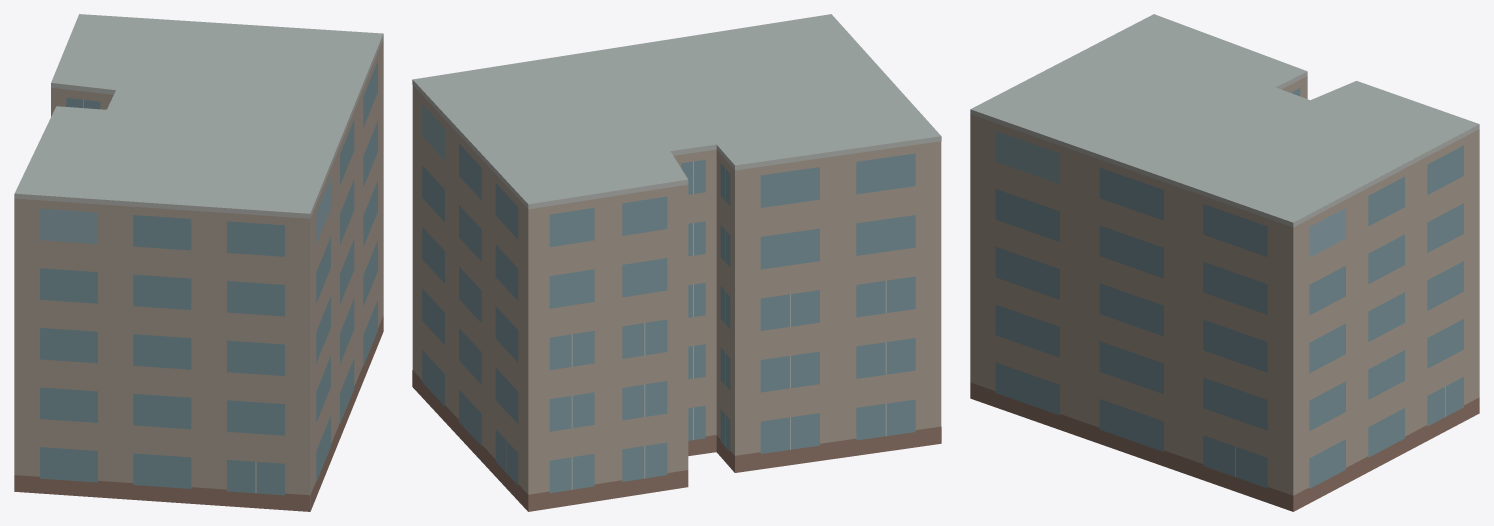
File: survey-upis-32693108.glb
The picture shows the model from 3 angles, left to right: view 1: azimuth 30°, elevation 25°; view 2: azimuth 150°, elevation 25°; view 3: azimuth 270°, elevation 25°; orthographic projection. The views are drawn at different scales.
Parts seen in each view (by area): view 1: survey-upis-32693108.tmp; view 2: survey-upis-32693108.tmp; view 3: survey-upis-32693108.tmp.
Boxes of the visible parts, box(x1,y1,x2,y2) form: survey-upis-32693108.tmp: box(14, 14, 383, 511); survey-upis-32693108.tmp: box(412, 14, 941, 511); survey-upis-32693108.tmp: box(970, 14, 1479, 511).
Bounding box in the file's own units: 23.07 × 14.9 × 23.79.
